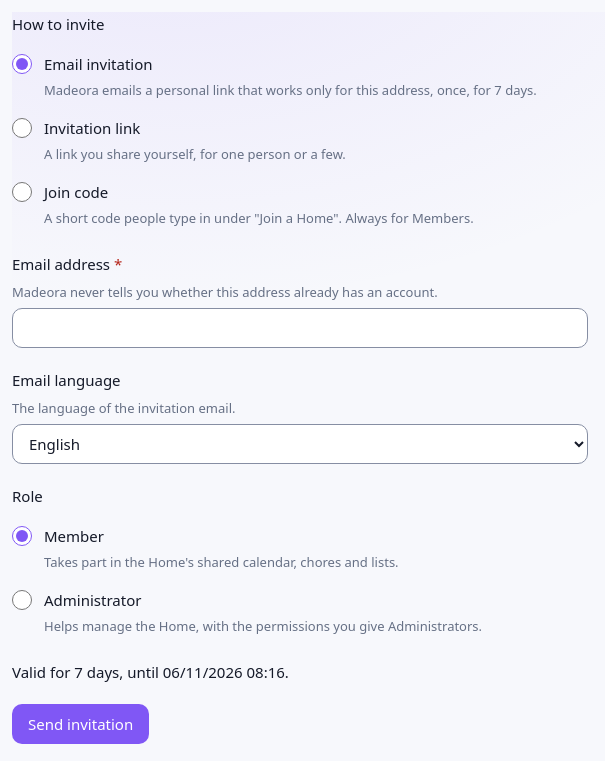
InviteForm › keeps the request id when retrying after a network failure
This screenshot has width=605, height=761.
Click the radio button labelled "Join code".
click(22, 192)  # box x1=12 y1=182 x2=32 y2=202
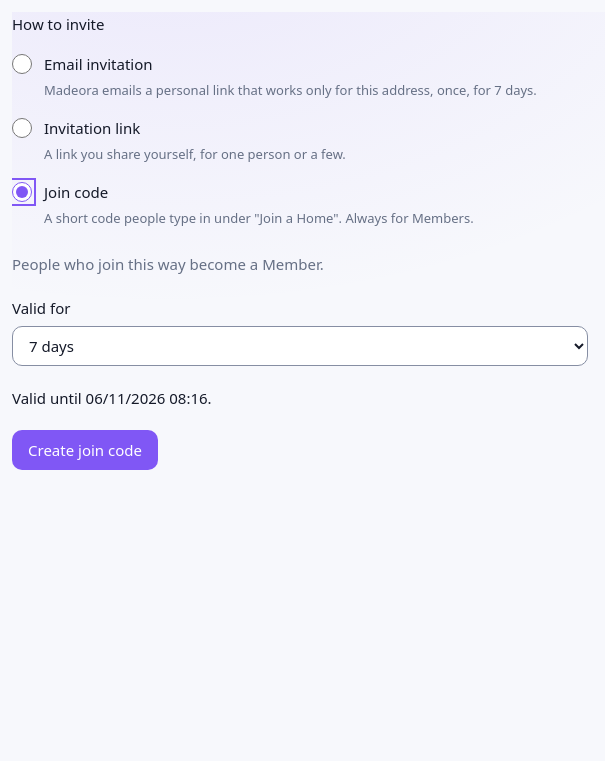
Click the button "Create join code".
click(85, 450)  # box x1=12 y1=430 x2=158 y2=470
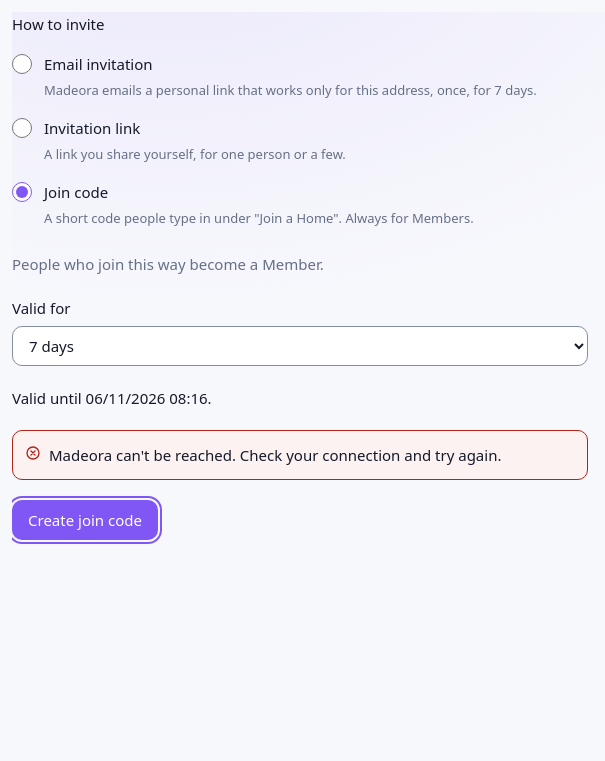
Check: the message shows "can't be reached", box x1=49 y1=445 x2=502 y2=465
Click the button "Create join code".
click(85, 520)  # box x1=12 y1=500 x2=158 y2=540
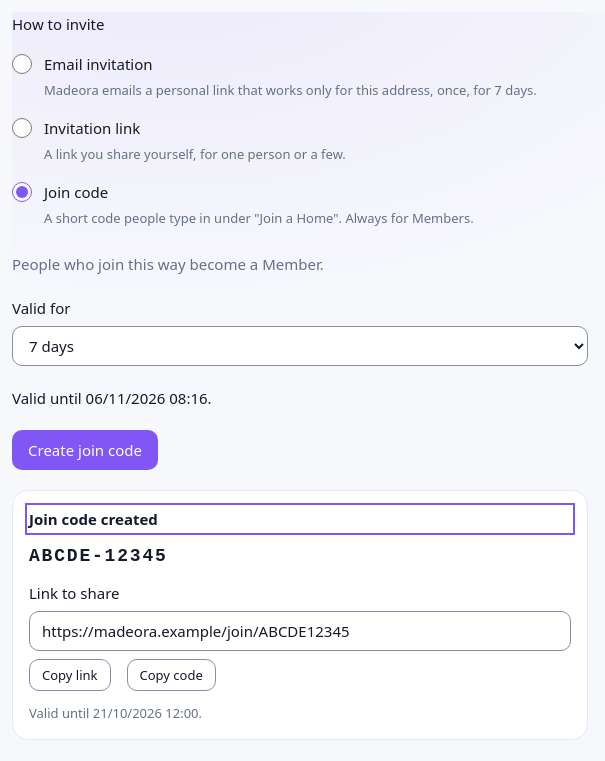
Check: the text "ABCDE-12345" is shown, box x1=29 y1=546 x2=168 y2=566
